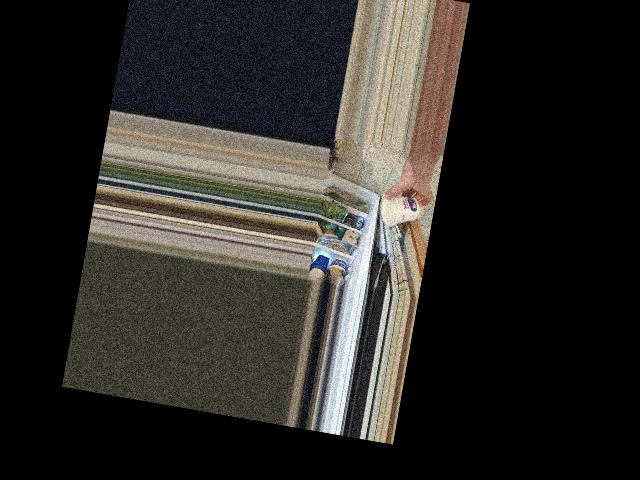cotage: (386, 190, 422, 231)
